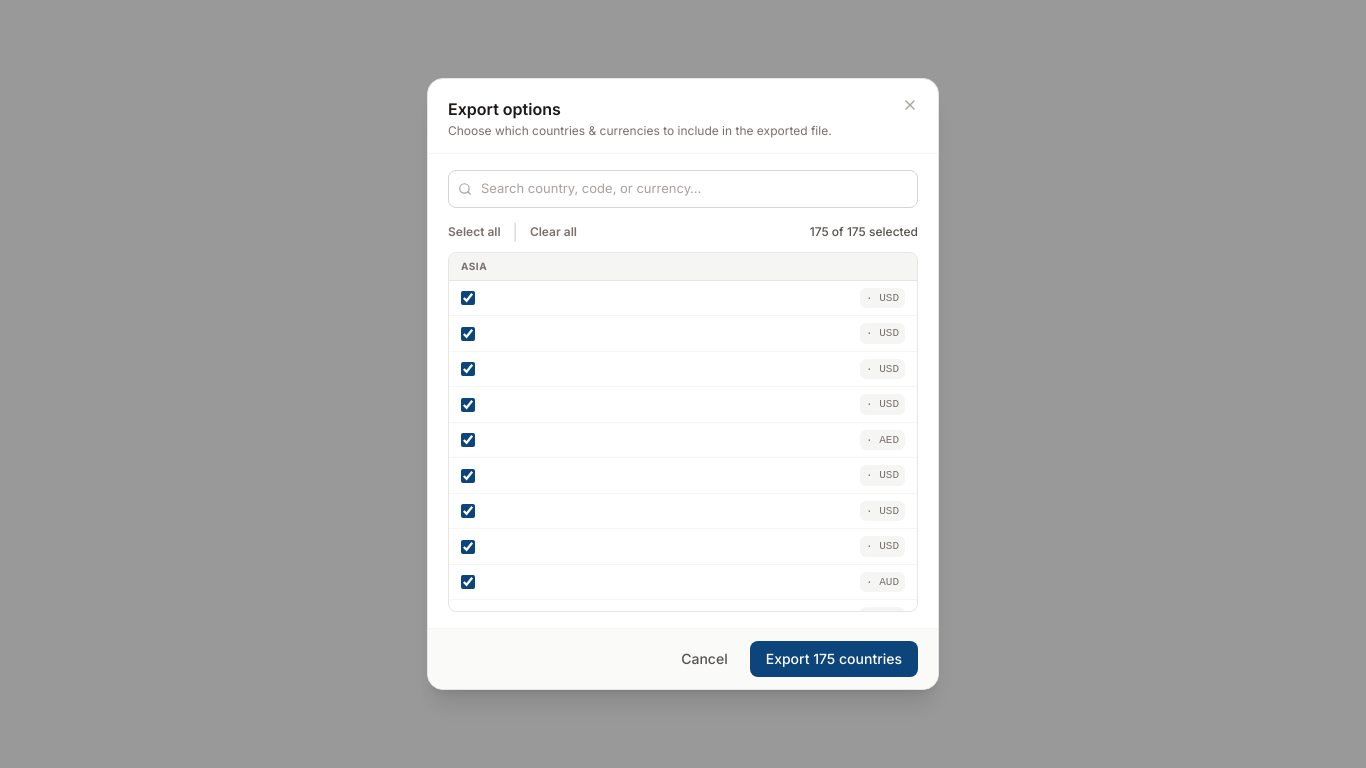
Test: ExportOptionsDialog — given Apple's catalog › Clear all then Select all returns to Apple's total, not the shared one
Click the button "Clear all".
click(553, 232)  # box [530,224,577,240]
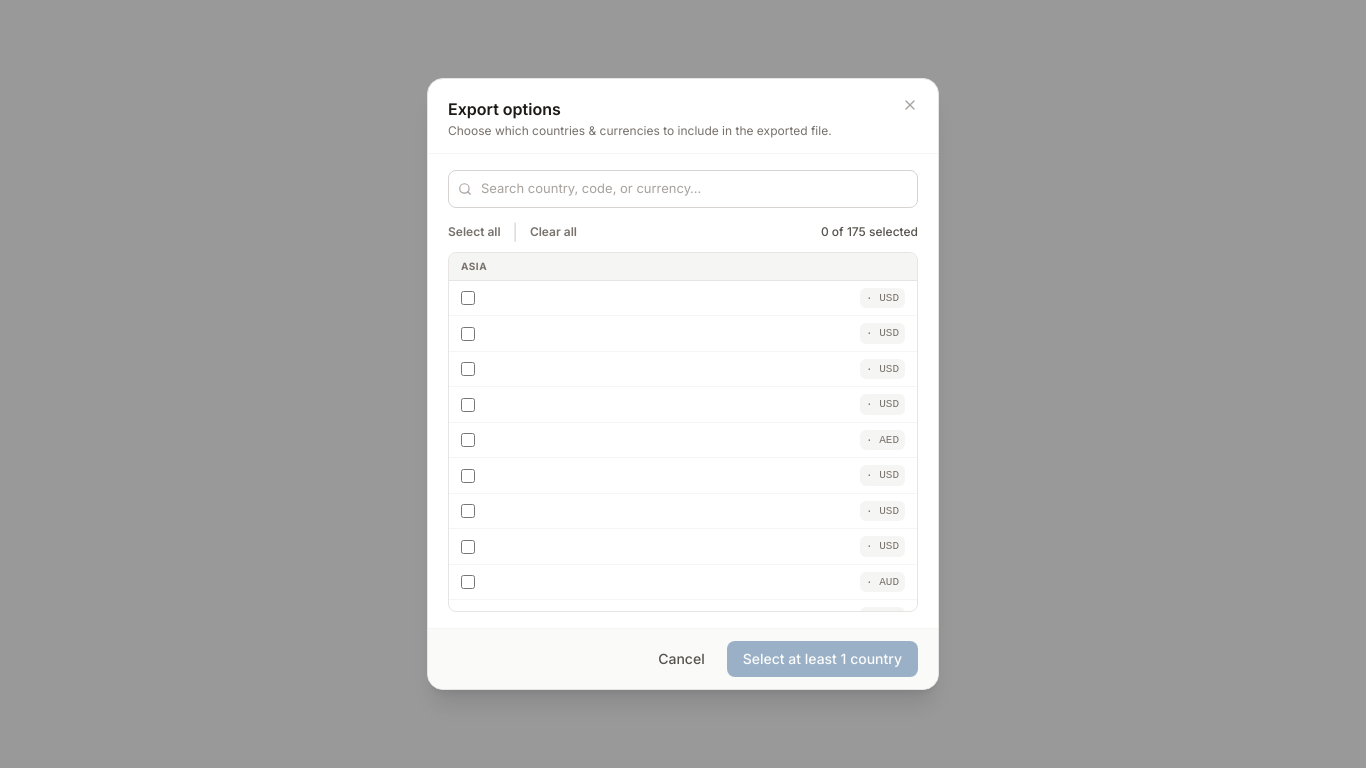
Click the button "Select all".
click(474, 232)  # box [448,224,501,240]
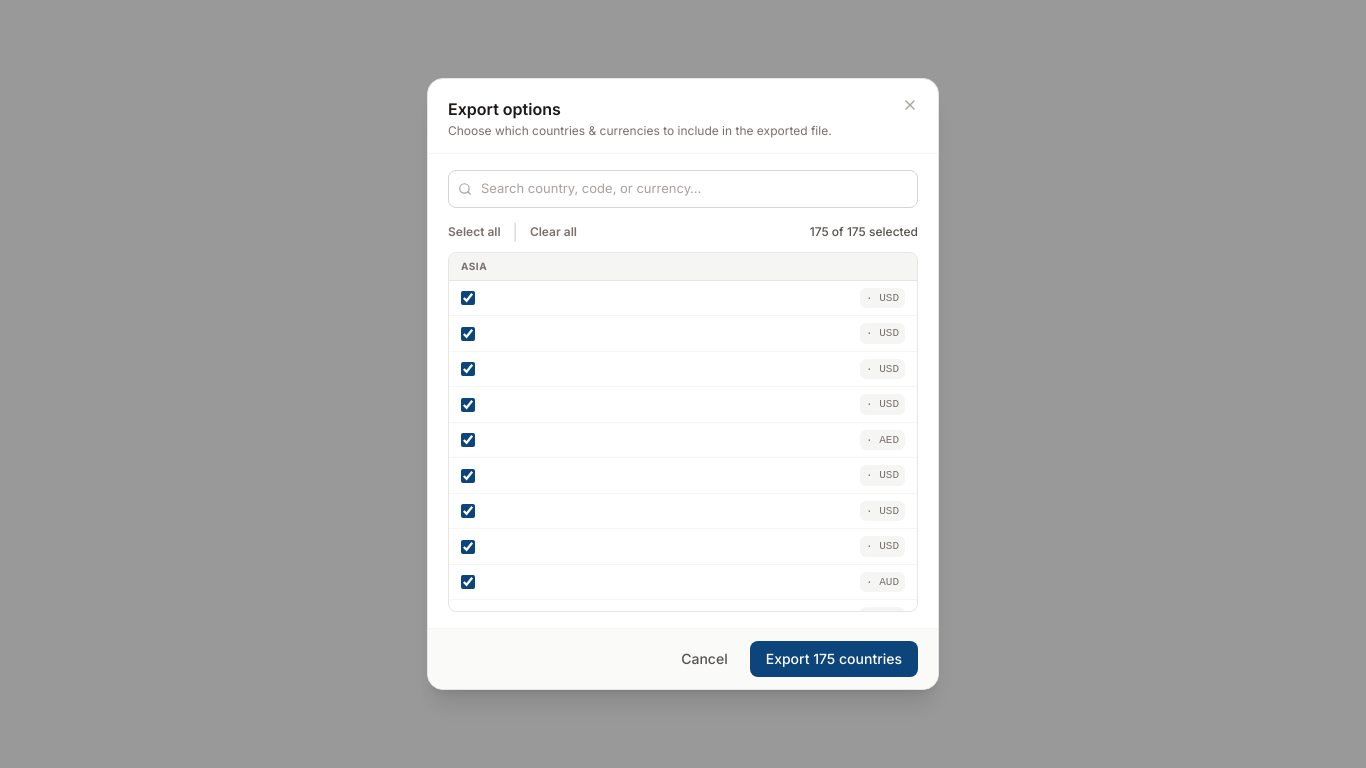
Expected: the text "175 of 175 selected" is shown, [810,224,918,240]
